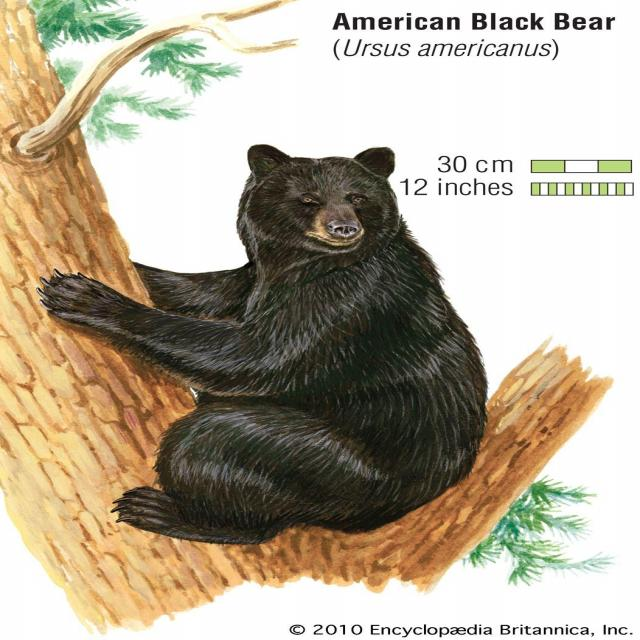Bear: (37, 144, 489, 549)
